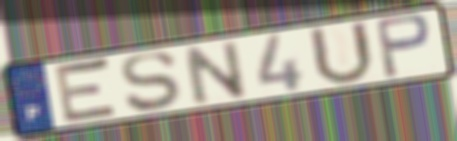4: (253, 31, 309, 95)
E: (52, 55, 122, 126)
N: (180, 38, 251, 107)
P: (372, 11, 435, 81)
S: (117, 50, 182, 116)
U: (305, 19, 378, 88)
